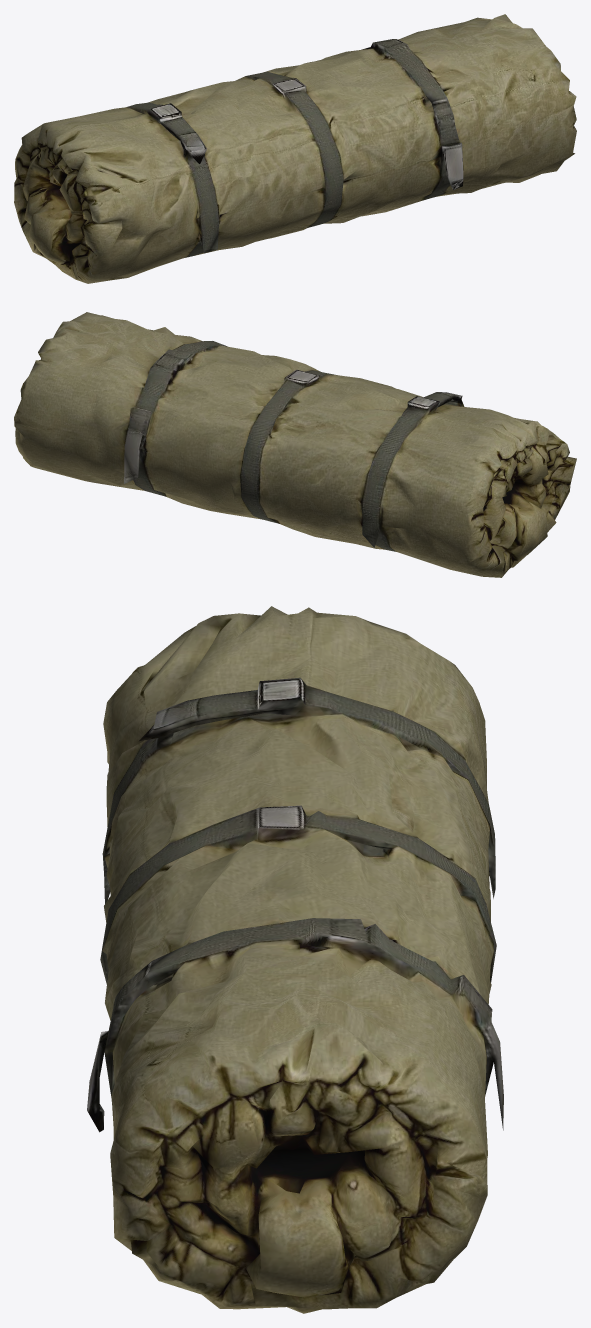
The model's file is sleeping_bag.f07e19acf2.glb.
The picture shows the model from 3 angles, top to bottom: view 1: azimuth 30°, elevation 25°; view 2: azimuth 150°, elevation 25°; view 3: azimuth 270°, elevation 25°; orthographic projection. The views are drawn at different scales.
Visible parts, largest first — view 1: sleeping_bag; view 2: sleeping_bag; view 3: sleeping_bag.
Boxes of the visible parts, x1,y1,x2,y2 form: sleeping_bag: (14,14,576,283); sleeping_bag: (14,312,576,577); sleeping_bag: (87,606,503,1313).
Size of the model in its own units: 0.6 by 0.1625 by 0.2152.
1 material, 1 textured.
